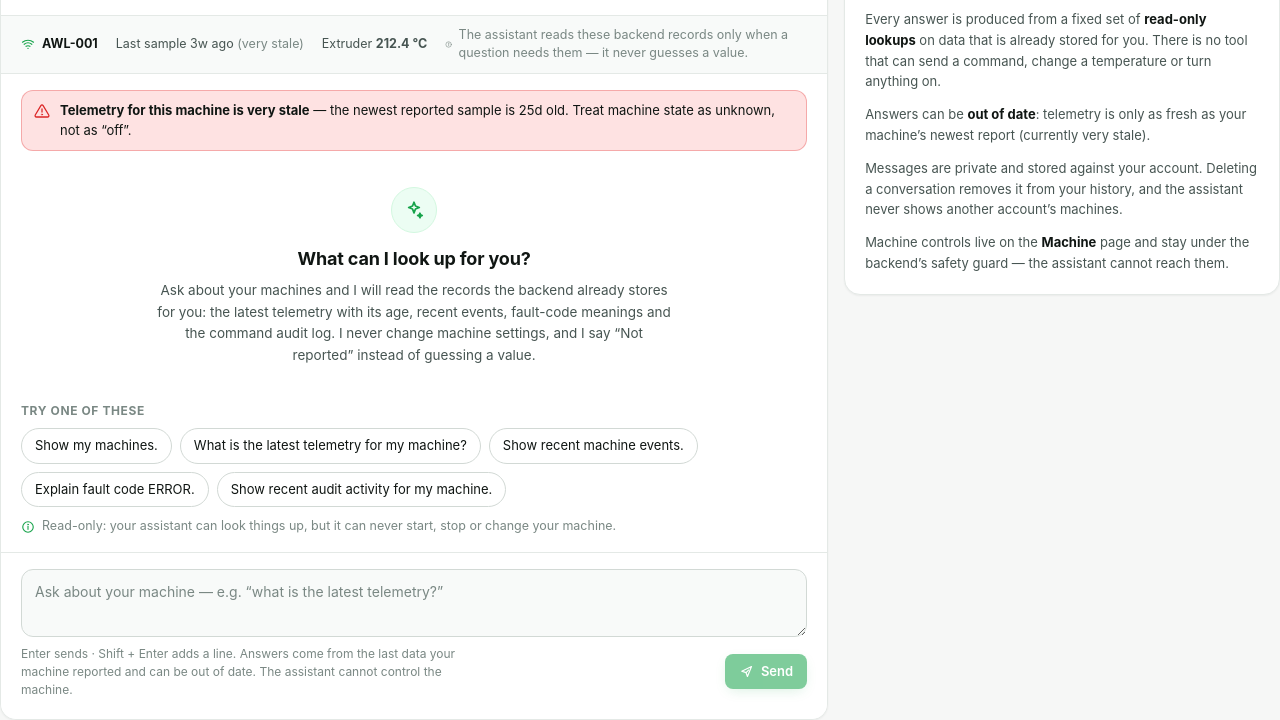
Test: assistant page — failure handling › explains the daily cap
(page scrolled)
Replace the text in the text box named "ask the assistant" with "hello" at (414, 603), box [21,569,807,636]
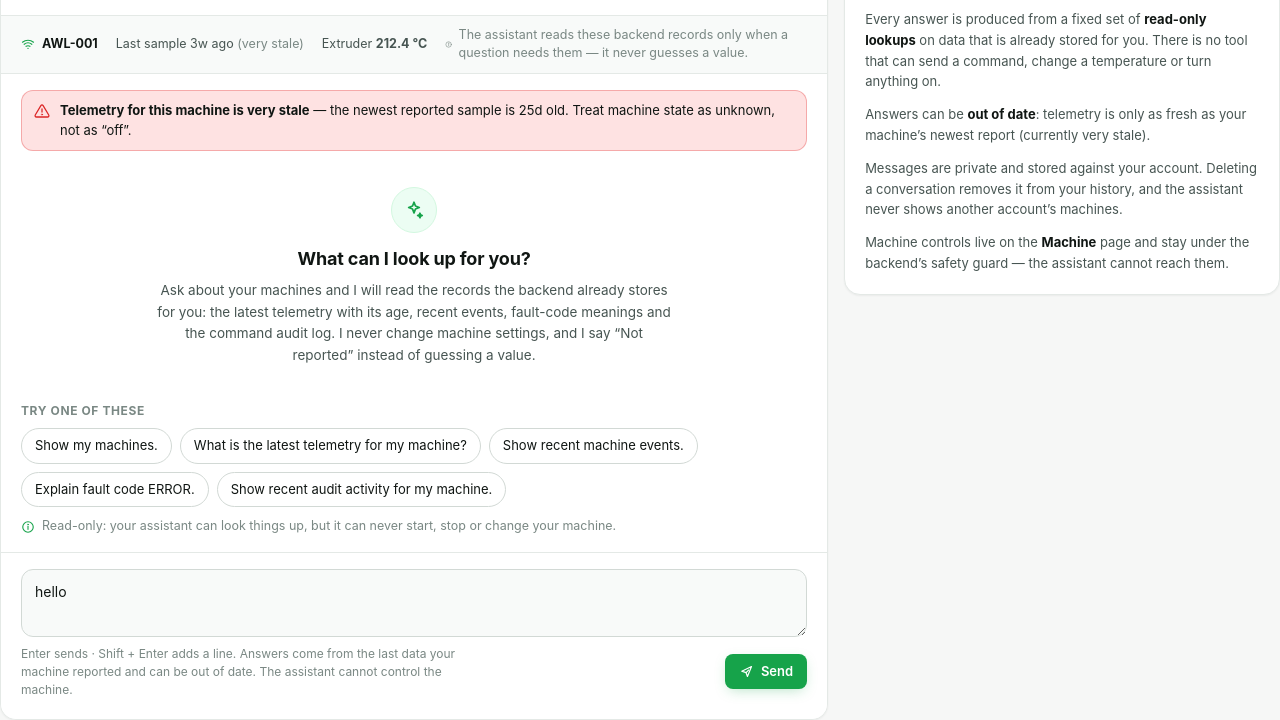
Click the button with aria-label "send message".
click(766, 672)  # box [725,654,807,689]
(page scrolled)
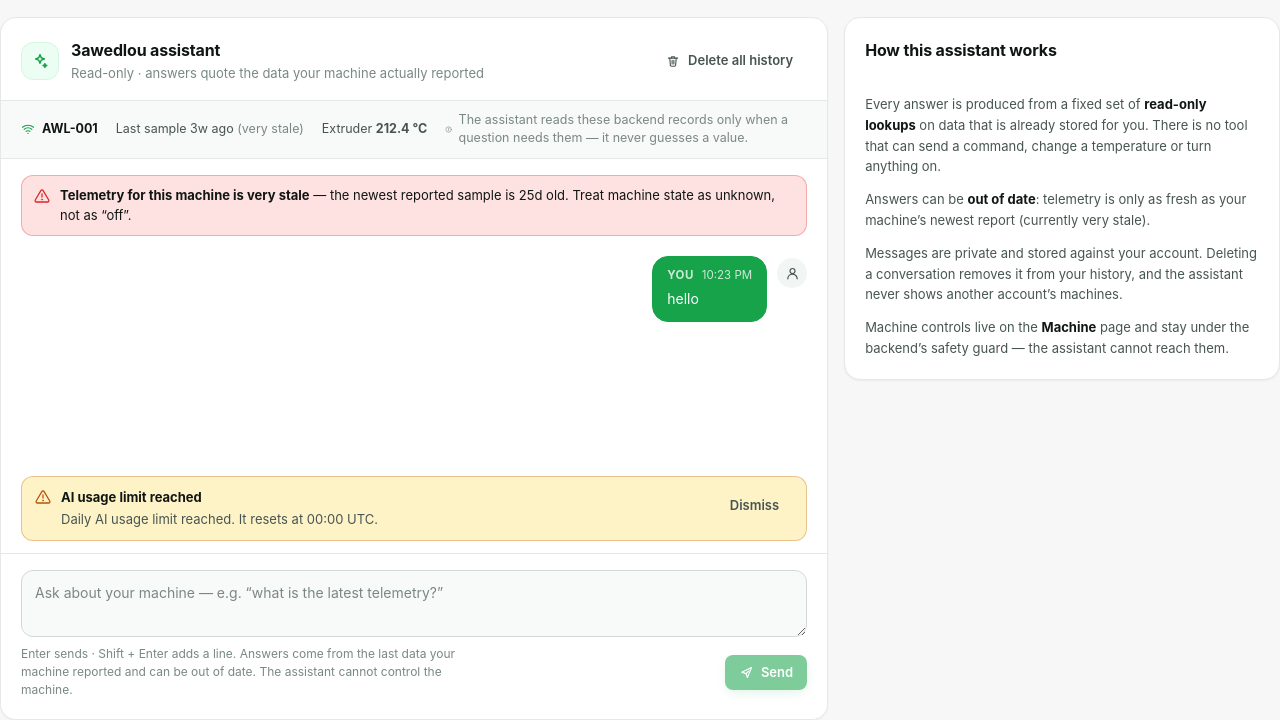
Expected: the text "AI usage limit reached" shows "Daily AI usage limit reached. It resets at 00:00 UTC.", [61,510,378,526]
